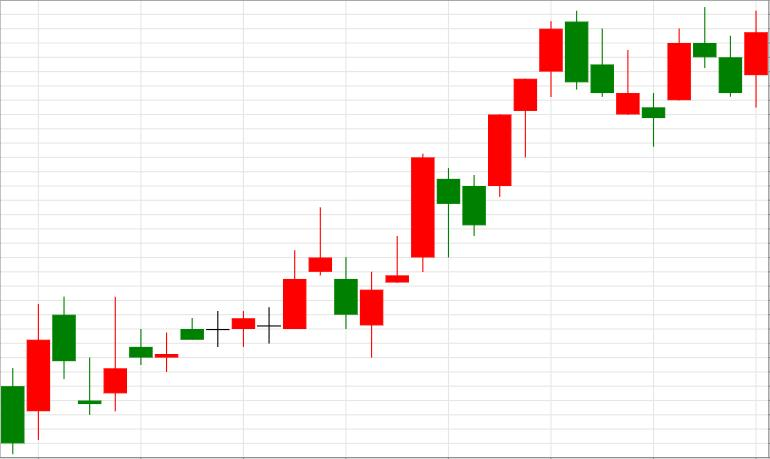evening_star_fall: (155, 207, 358, 372)
hanging_man_fall: (360, 78, 537, 359)
